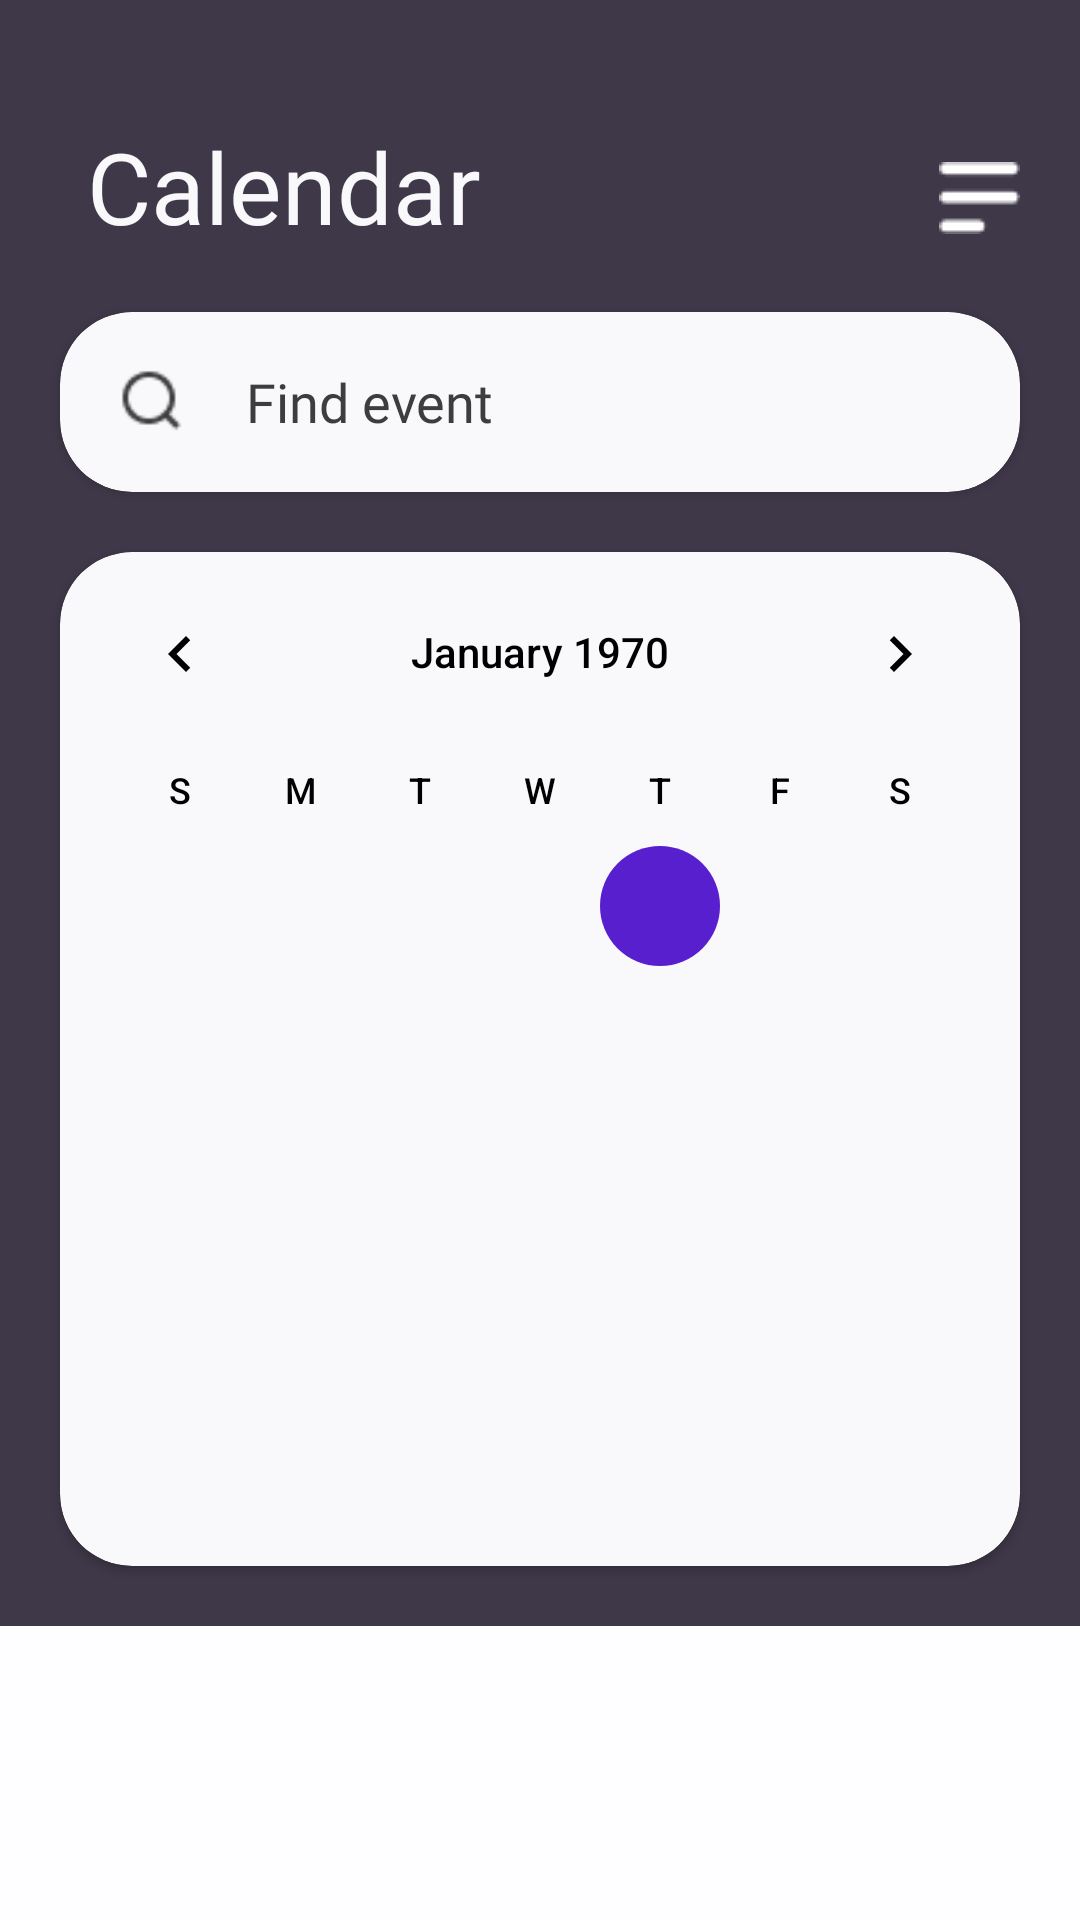

Icons on this 1080x1920 Android screen, each with the point to tap as (x=x, y=y):
hamburgermenu: (x=979, y=198)
search: (x=151, y=400)
